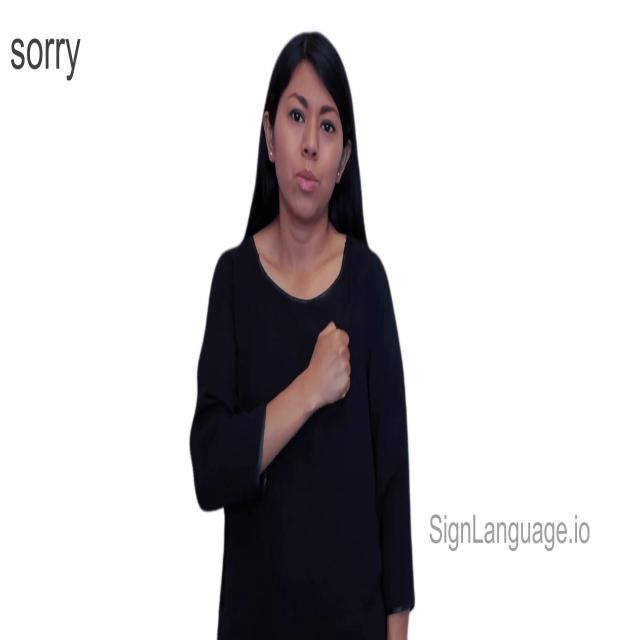sorry: (304, 317, 355, 413)
